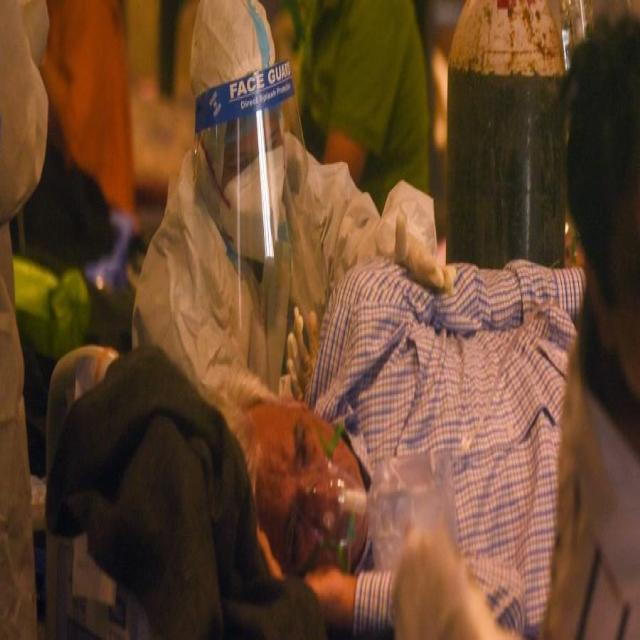Coverall: (130, 0, 432, 418)
Mask: (216, 139, 294, 252)
